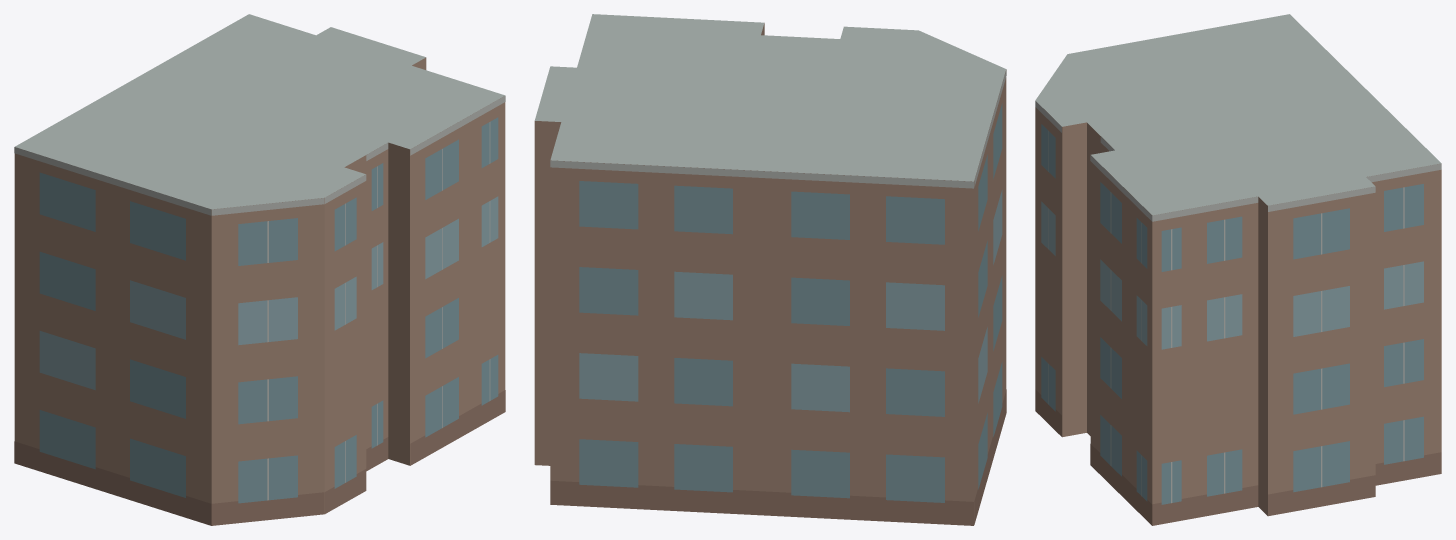
Rendered from survey-upis-32741639.glb.
The picture shows the model from 3 angles, left to right: view 1: azimuth 30°, elevation 25°; view 2: azimuth 150°, elevation 25°; view 3: azimuth 270°, elevation 25°; orthographic projection. The views are drawn at different scales.
Parts seen in each view (by area): view 1: survey-upis-32741639.tmp; view 2: survey-upis-32741639.tmp; view 3: survey-upis-32741639.tmp.
Boxes of the visible parts, <box> form: survey-upis-32741639.tmp: <box>14,14,505,525</box>; survey-upis-32741639.tmp: <box>534,14,1006,525</box>; survey-upis-32741639.tmp: <box>1035,14,1441,525</box>.
Bounding box in the file's own units: 16.68 × 11.98 × 14.22.
